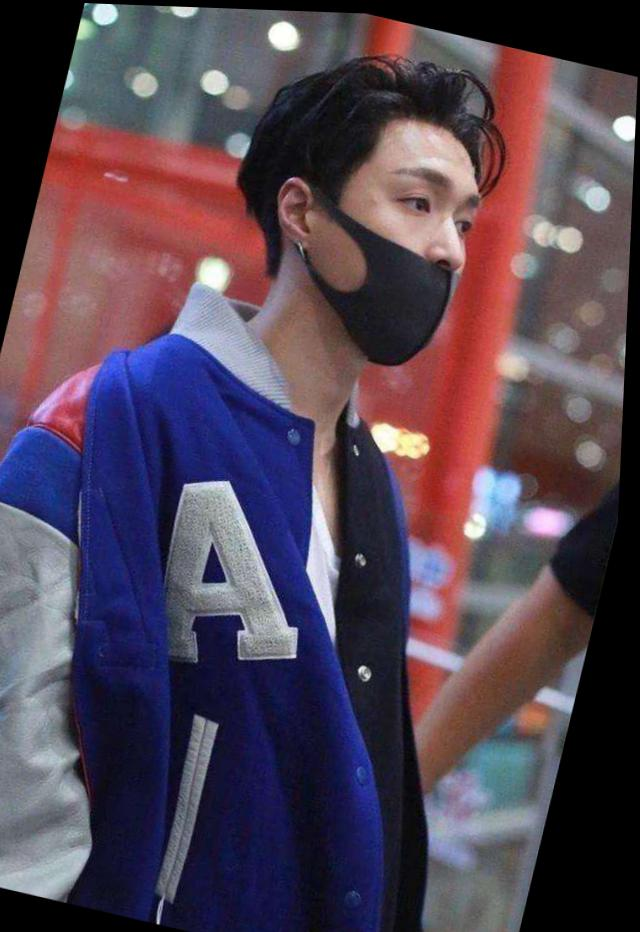WRONG: (312, 137, 494, 382)
